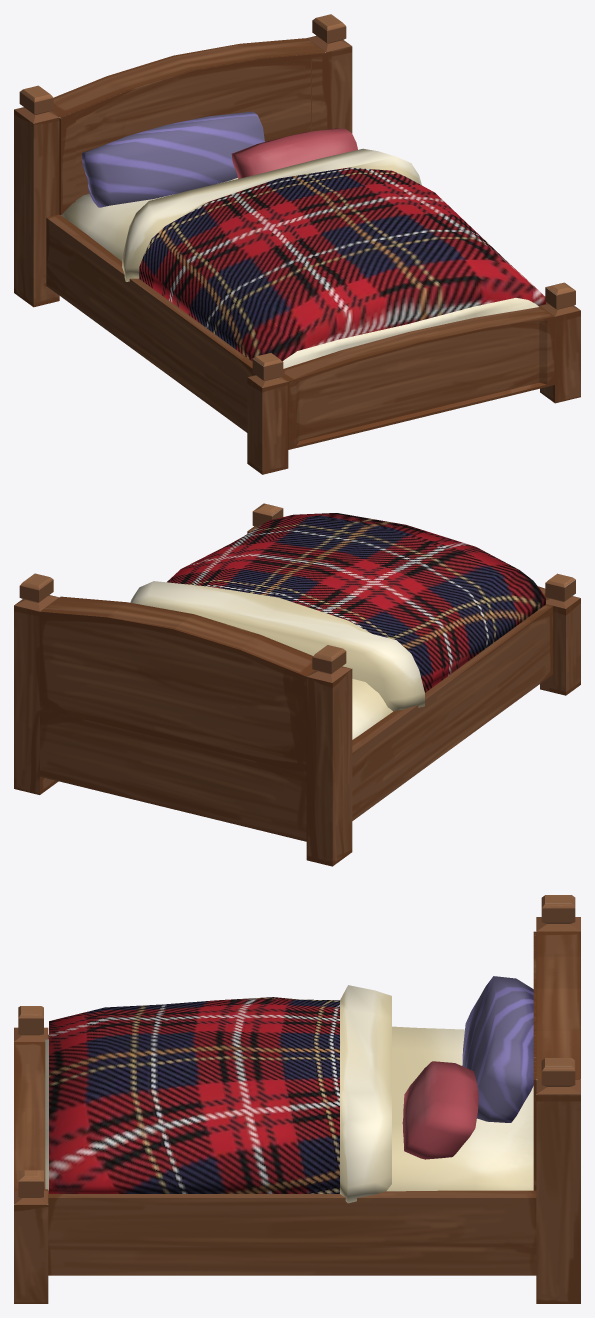
File: Bed.fbx
The picture shows the model from 3 angles, top to bottom: view 1: azimuth 30°, elevation 25°; view 2: azimuth 150°, elevation 25°; view 3: azimuth 270°, elevation 25°; orthographic projection. The views are drawn at different scales.
Visible parts, largest first — view 1: quilt; view 2: quilt; view 3: quilt.
Part boxes in pixels (box(x1,y1,x2,y2)): quilt: box(14, 14, 580, 474); quilt: box(14, 503, 580, 866); quilt: box(14, 895, 580, 1303).
Size of the model in its own units: 233 by 143 by 315.
Materials: 5 (5 with a texture image).
